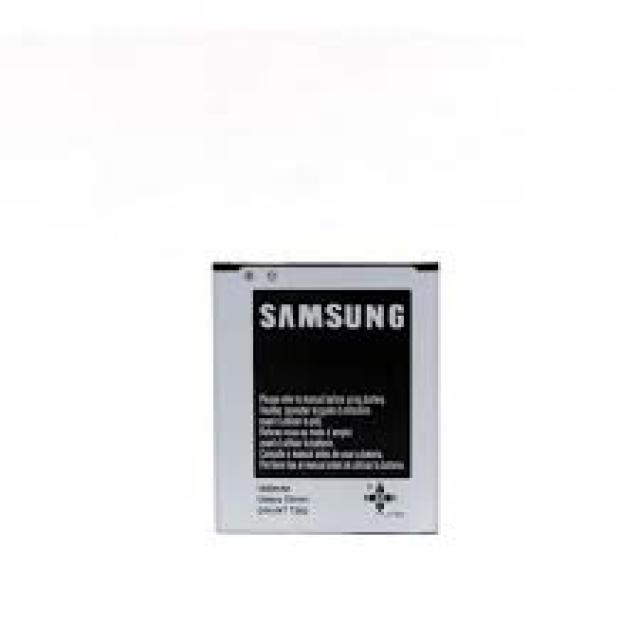non-organic waste: (208, 262, 444, 539)
